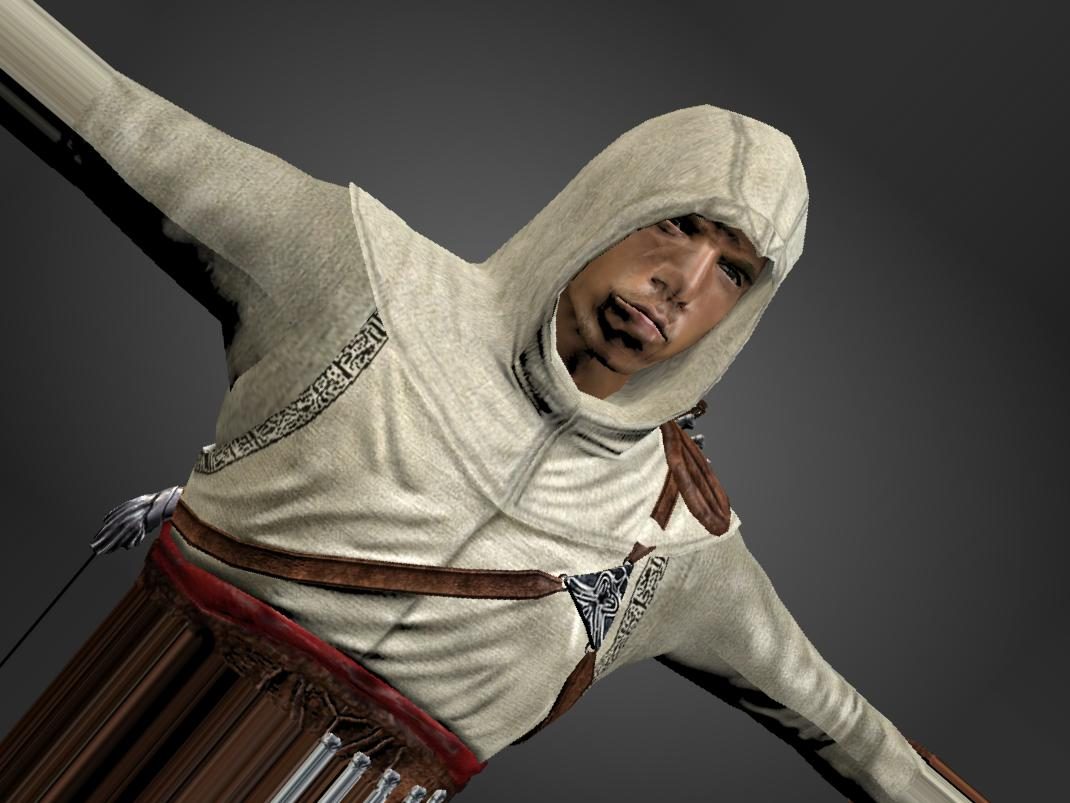clip: (632, 512, 669, 552)
